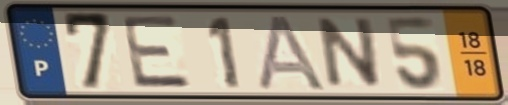1: (204, 14, 242, 90)
5: (382, 14, 445, 94)
7: (58, 8, 117, 95)
A: (255, 13, 330, 93)
E: (118, 13, 196, 91)
N: (315, 15, 384, 91)
